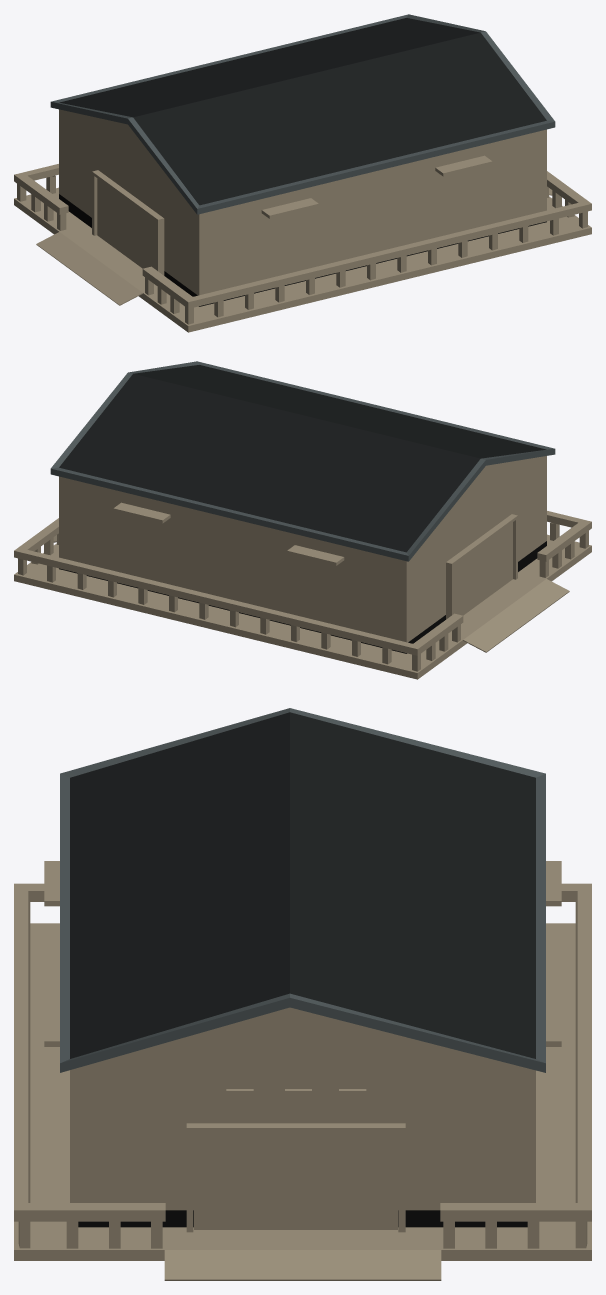
File: Warehouse001.fbx
The picture shows the model from 3 angles, top to bottom: view 1: azimuth 30°, elevation 25°; view 2: azimuth 150°, elevation 25°; view 3: azimuth 270°, elevation 25°; orthographic projection. The views are drawn at different scales.
Parts seen in each view (by area): view 1: polySurface2409; view 2: polySurface2409; view 3: polySurface2409.
Part boxes in pixels (x1,y1,x2,y2): polySurface2409: (14,14,591,332); polySurface2409: (14,361,591,679); polySurface2409: (14,708,591,1280).
Bounding box in the file's own units: 2590 × 816 × 1737.
